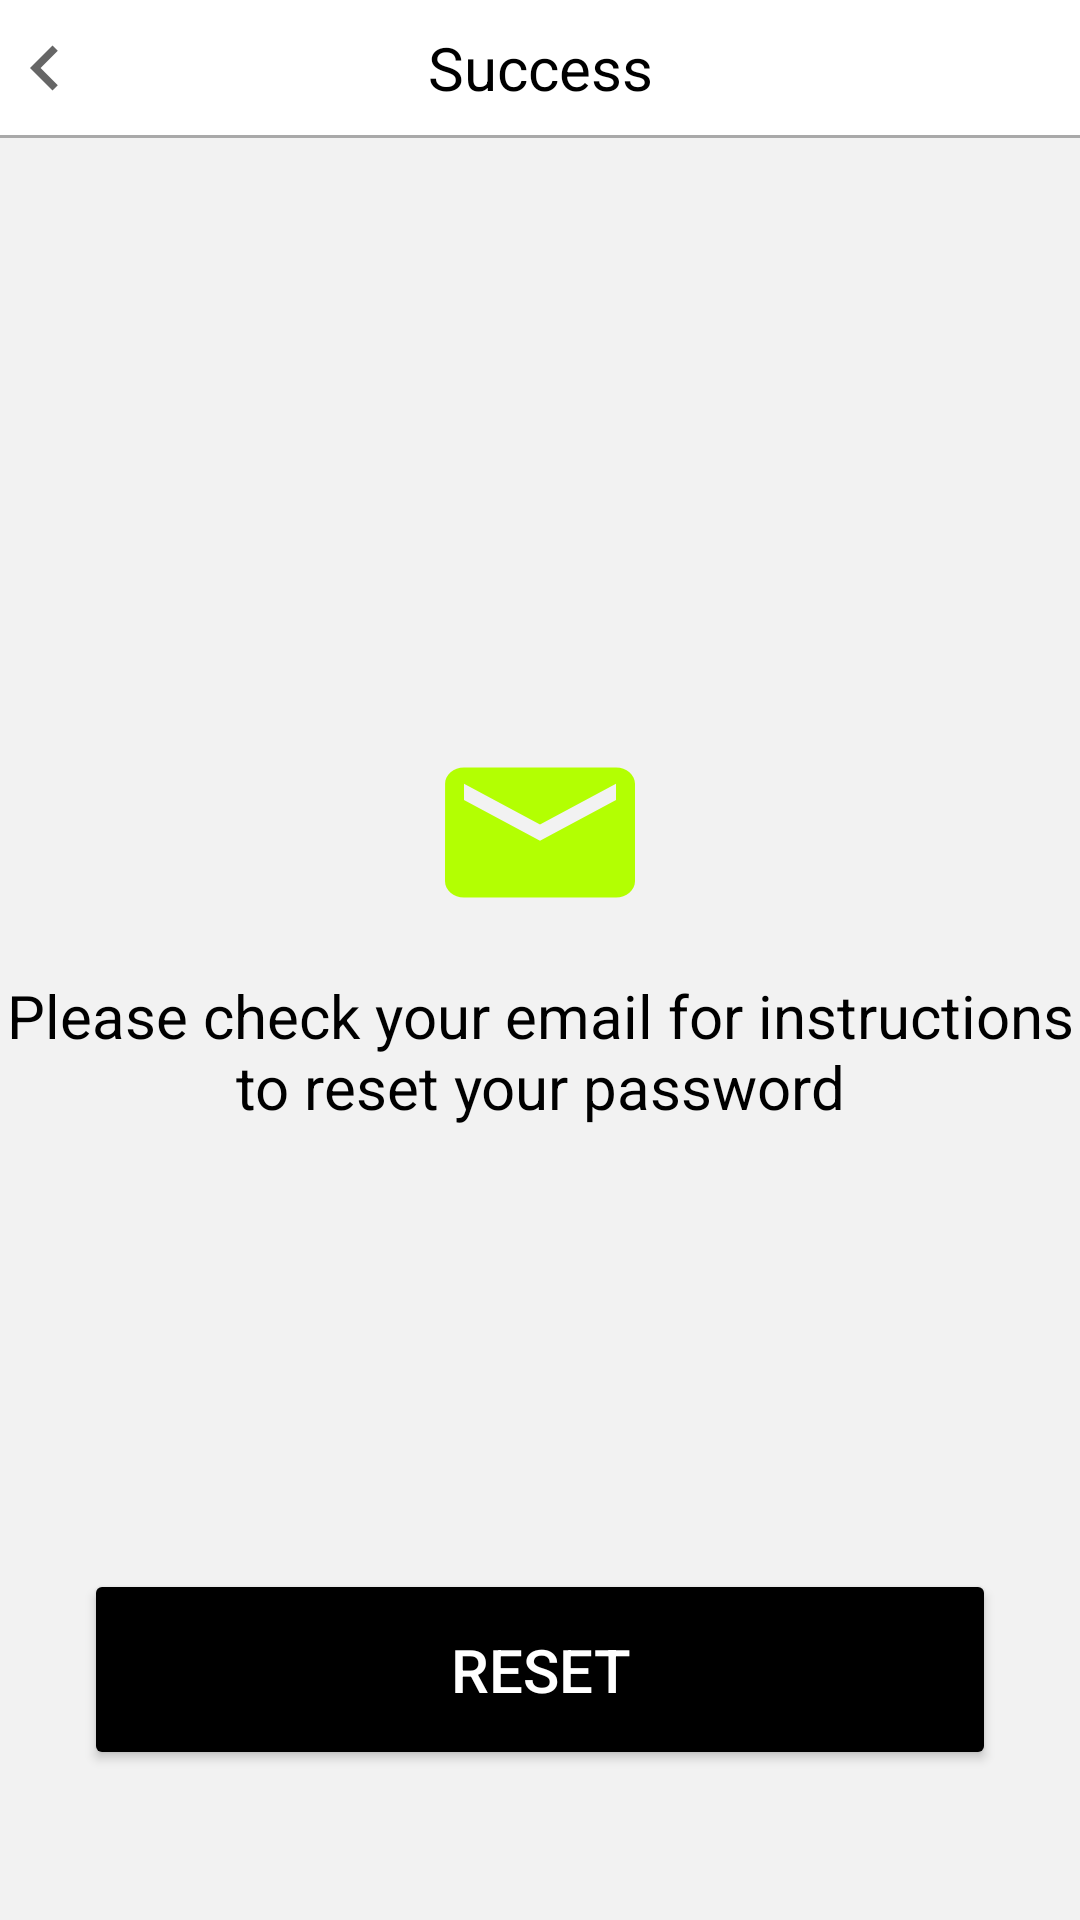

Where to tap for icons on this 1080px×1920px app screen, as (x,y):
chevron left: (44,68)
